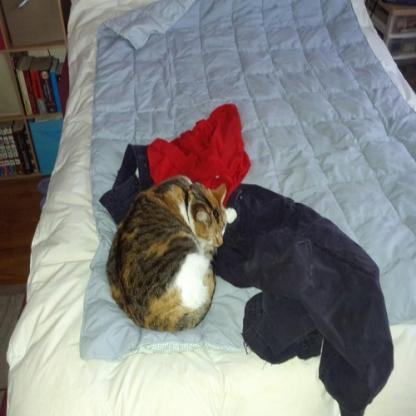Target: (110, 175, 236, 335)
